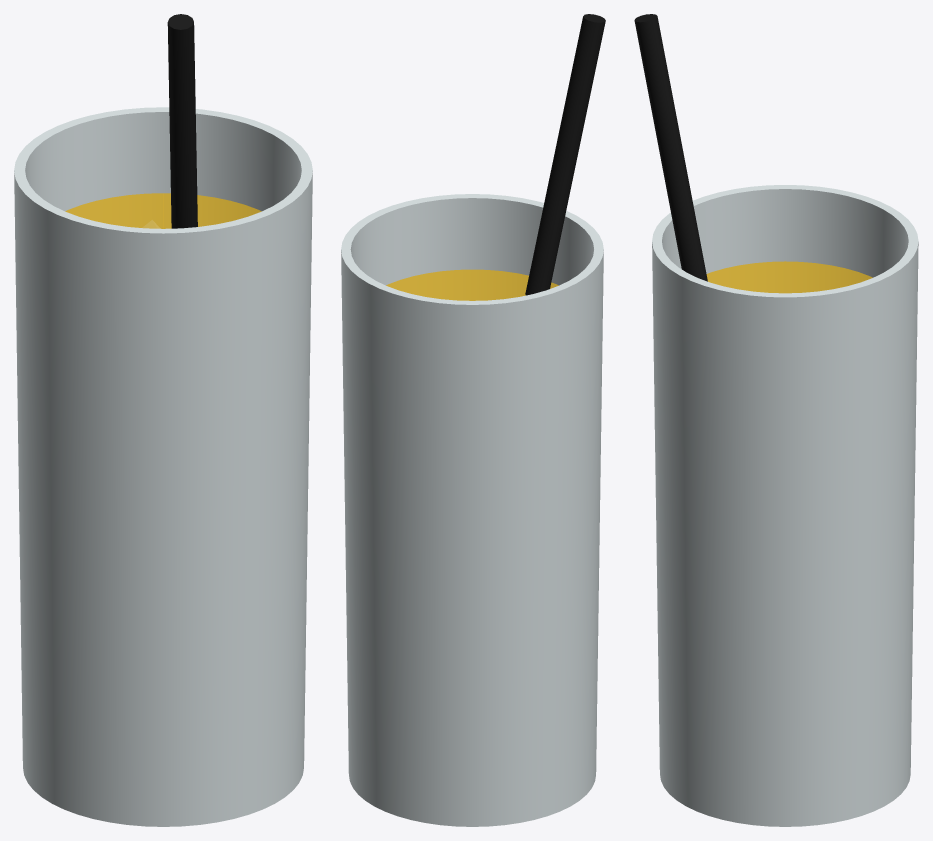
File: long_drink-amarelo.glb
3 renders of one model, left to right at view 1: azimuth 30°, elevation 25°; view 2: azimuth 150°, elevation 25°; view 3: azimuth 270°, elevation 25°, orthographic. The views are drawn at different scales.
Visible parts, largest first — view 1: long_drink-amarelo; view 2: long_drink-amarelo; view 3: long_drink-amarelo.
Part boxes in pixels (x1=…): long_drink-amarelo: x1=14, y1=14, x2=312, y2=826; long_drink-amarelo: x1=341, y1=14, x2=605, y2=826; long_drink-amarelo: x1=634, y1=14, x2=918, y2=826.
Size of the model in its own units: 0.068 by 0.206 by 0.0725.
